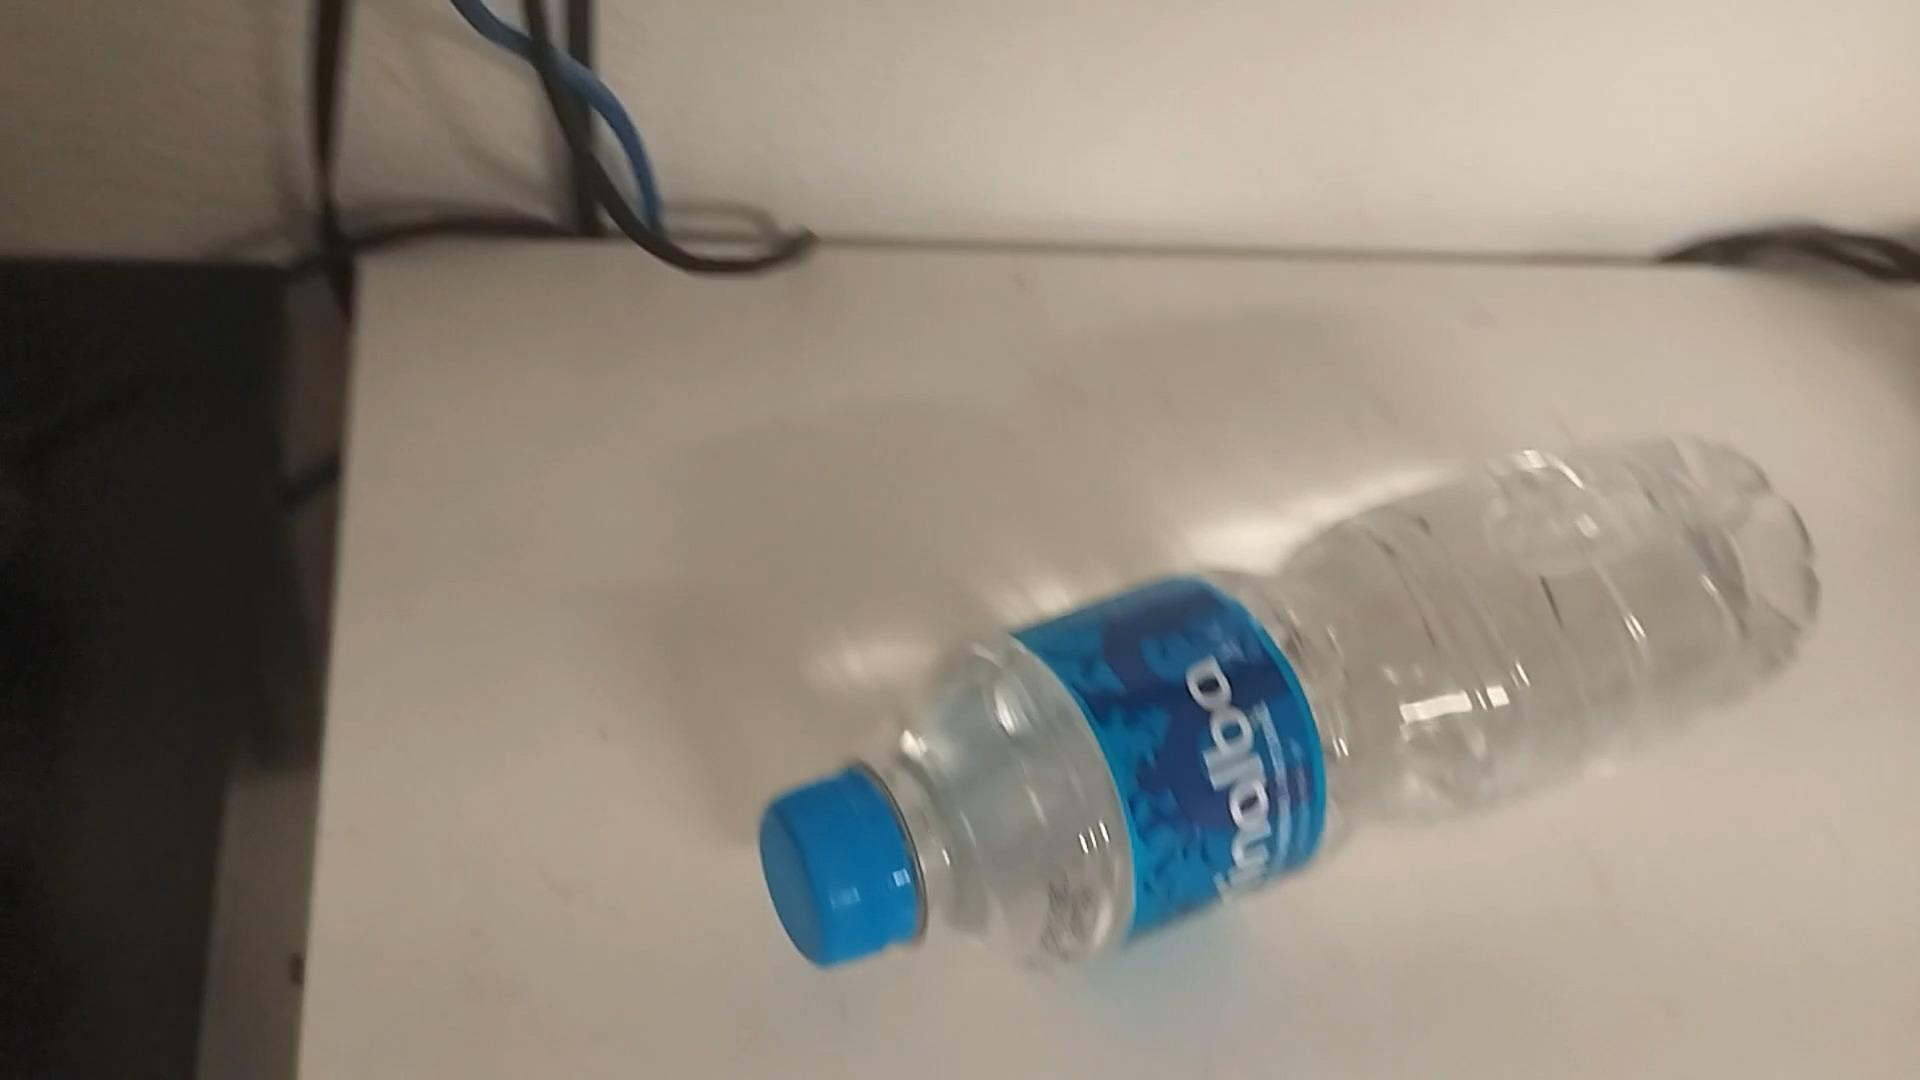agua: (757, 440, 1812, 981)
